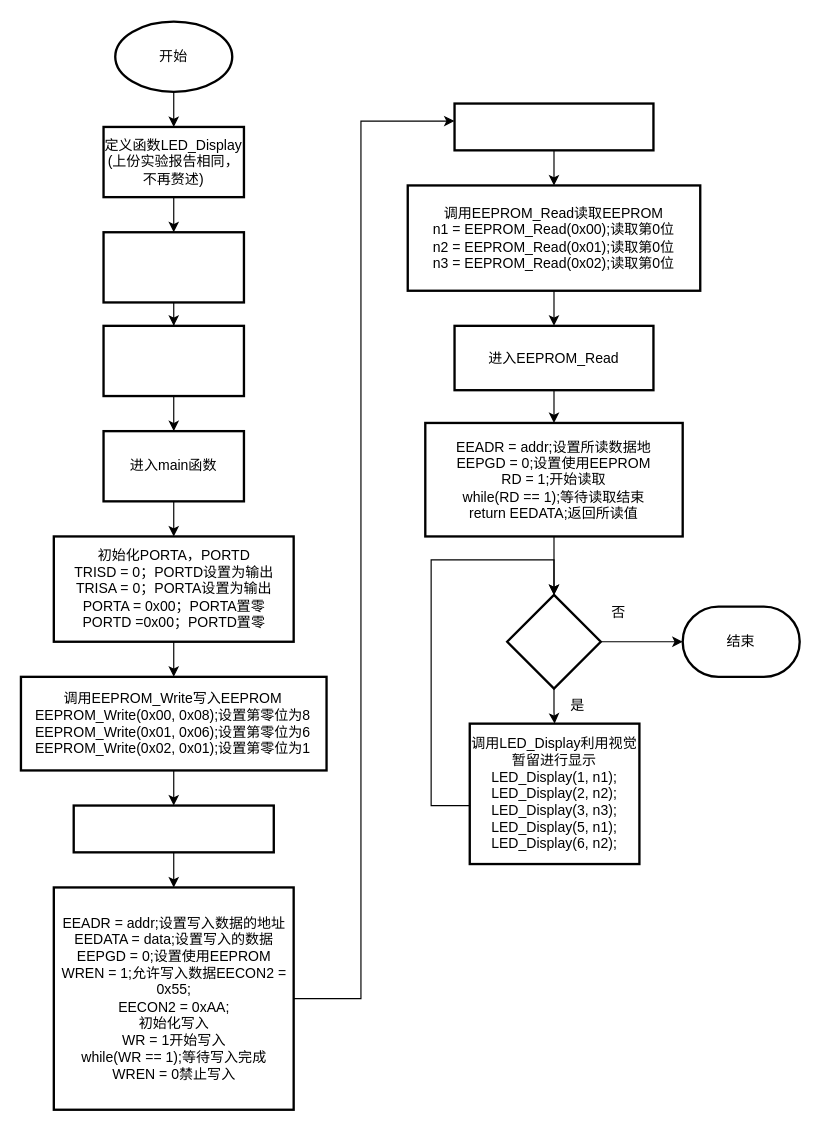
The diagram is 821 pixels wide and 1130 high, and some of its shapes have lost their labels. Here are the shapes that lost their labels. From the top down, the box of each, then its label:
(453, 102, 654, 151): 声明变量n1, n2, n3
(102, 230, 245, 303): 声明EEPROM_Write
(102, 324, 245, 397): 声明EEPROM_Read
(505, 593, 601, 689): while（1）
(72, 804, 274, 853): 进入EEPROM_Write
